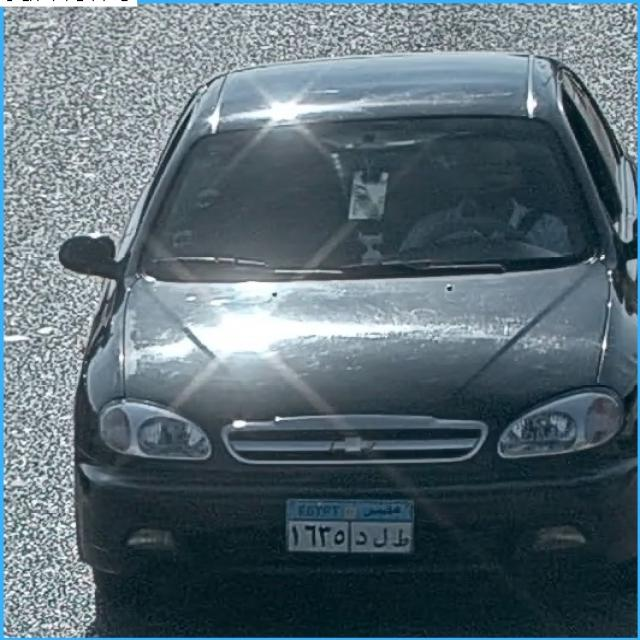windshield: (131, 125, 602, 271)
